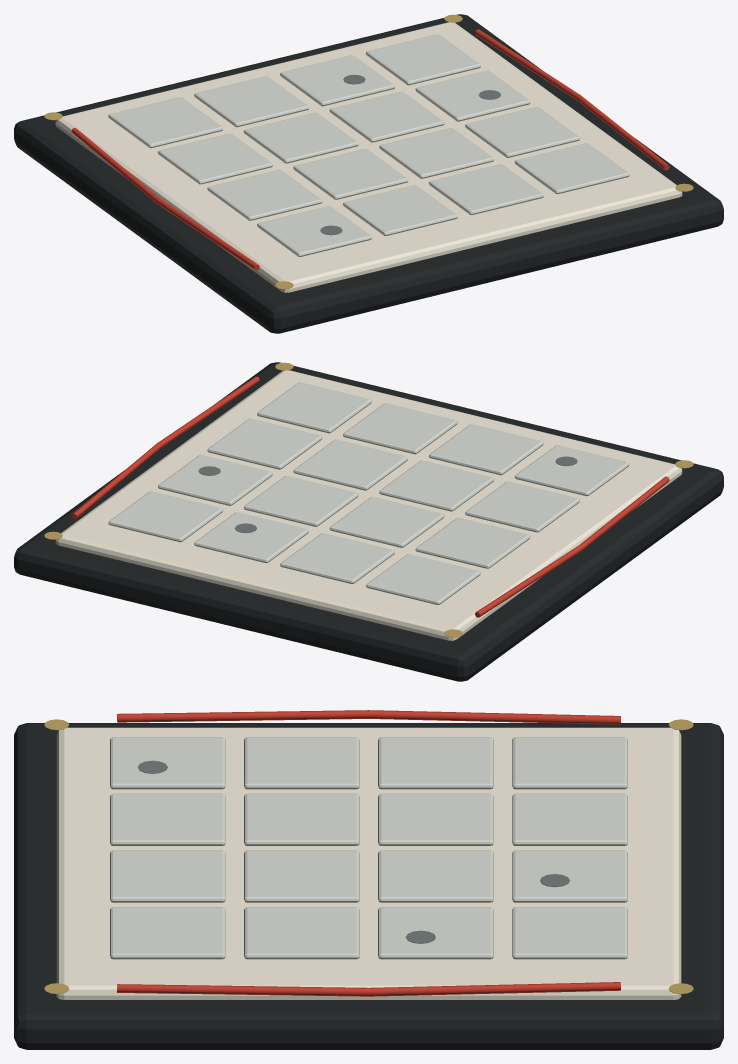
Rendered from board-4x4.glb.
3 views of the same model, one above another, from view 1: azimuth 30°, elevation 25°; view 2: azimuth 150°, elevation 25°; view 3: azimuth 270°, elevation 25° (orthographic). The views are drawn at different scales.
Visible parts, largest first — view 1: rice paper field, heavy inkstone base, paper cell 0-3, paper cell 2-2, paper cell 1-0, paper cell 2-1, paper cell 3-1, paper cell 3-3, paper cell 1-2, paper cell 1-3, paper cell 3-0, paper cell 0-1 (+8 smaller); view 2: rice paper field, heavy inkstone base, paper cell 0-2, paper cell 1-2, paper cell 3-3, paper cell 0-1, paper cell 0-3, paper cell 1-1, paper cell 1-3, paper cell 2-0, paper cell 3-0, paper cell 2-2 (+8 smaller); view 3: rice paper field, heavy inkstone base, paper cell 0-2, paper cell 1-1, paper cell 2-1, paper cell 3-0, paper cell 0-1, paper cell 0-3, paper cell 1-0, paper cell 1-2, paper cell 1-3, paper cell 2-0 (+8 smaller).
Part boxes in pixels (x1=…): rice paper field: x1=55, y1=22, x2=682, y2=292; heavy inkstone base: x1=14, y1=14, x2=723, y2=333; paper cell 0-3: x1=514, y1=143, x2=629, y2=194; paper cell 2-2: x1=329, y1=91, x2=444, y2=142; paper cell 1-0: x1=207, y1=169, x2=322, y2=220; paper cell 2-1: x1=243, y1=112, x2=358, y2=163; paper cell 3-1: x1=194, y1=76, x2=309, y2=127; paper cell 3-3: x1=366, y1=34, x2=480, y2=85; paper cell 1-2: x1=379, y1=128, x2=494, y2=178; paper cell 1-3: x1=465, y1=107, x2=579, y2=157; paper cell 3-0: x1=108, y1=97, x2=223, y2=148; paper cell 0-1: x1=343, y1=185, x2=457, y2=235; rice paper field: x1=55, y1=370, x2=682, y2=640; heavy inkstone base: x1=14, y1=362, x2=723, y2=681; paper cell 0-2: x1=343, y1=403, x2=457, y2=454; paper cell 1-2: x1=293, y1=439, x2=408, y2=490; paper cell 3-3: x1=108, y1=491, x2=223, y2=542; paper cell 0-1: x1=428, y1=424, x2=543, y2=475; paper cell 0-3: x1=257, y1=382, x2=371, y2=433; paper cell 1-1: x1=379, y1=460, x2=494, y2=511; paper cell 1-3: x1=207, y1=418, x2=322, y2=469; paper cell 2-0: x1=415, y1=517, x2=530, y2=568; paper cell 3-0: x1=366, y1=554, x2=480, y2=604; paper cell 2-2: x1=243, y1=476, x2=358, y2=526; rice paper field: x1=56, y1=727, x2=681, y2=999; heavy inkstone base: x1=14, y1=723, x2=723, y2=1049; paper cell 0-2: x1=110, y1=850, x2=225, y2=902; paper cell 1-1: x1=244, y1=793, x2=359, y2=845; paper cell 2-1: x1=378, y1=793, x2=493, y2=845; paper cell 3-0: x1=512, y1=737, x2=627, y2=789; paper cell 0-1: x1=110, y1=793, x2=225, y2=845; paper cell 0-3: x1=110, y1=907, x2=225, y2=959; paper cell 1-0: x1=244, y1=737, x2=359, y2=789; paper cell 1-2: x1=244, y1=850, x2=359, y2=902; paper cell 1-3: x1=244, y1=907, x2=359, y2=959; paper cell 2-0: x1=378, y1=737, x2=493, y2=789.
Size of the model in its own units: 5.64 by 0.5271 by 5.64.
